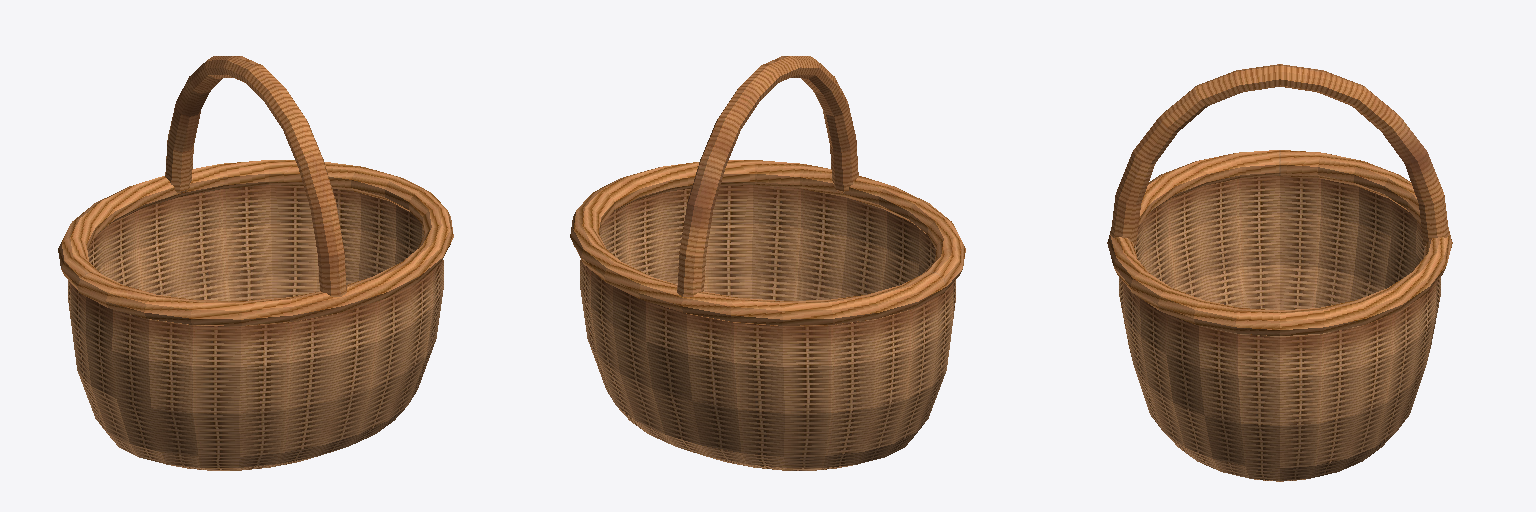
The picture shows the model from 3 angles: view 1: azimuth 30°, elevation 25°; view 2: azimuth 150°, elevation 25°; view 3: azimuth 270°, elevation 25°; orthographic projection.
Visible parts, largest first — view 1: Torus.001; view 2: Torus.001; view 3: Torus.001.
Boxes of the visible parts, box(x1,y1,x2,y2) form: Torus.001: box(58, 56, 453, 470); Torus.001: box(570, 56, 965, 470); Torus.001: box(1107, 64, 1452, 481).
Size of the model in its own units: 0.9819 by 1 by 0.8213.
Materials: 1 (1 with a texture image).